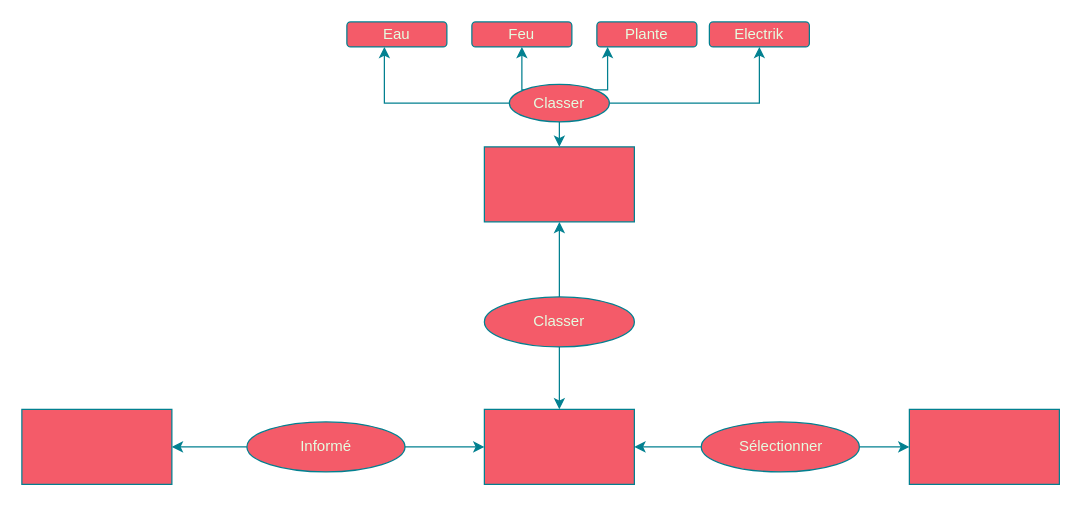
Image size: 1081x506. Some labels were removed from this diagram. The centre of each missing label's shape, as x and y in pixels:
"Joueur" goes at (983,446).
"Pokémon" goes at (558,446).
"Stats" goes at (96,446).
"Type" goes at (558,184).
